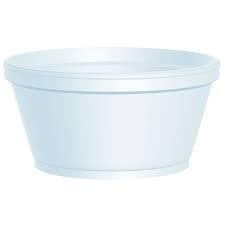Plastic cup: (8, 17, 225, 201)
